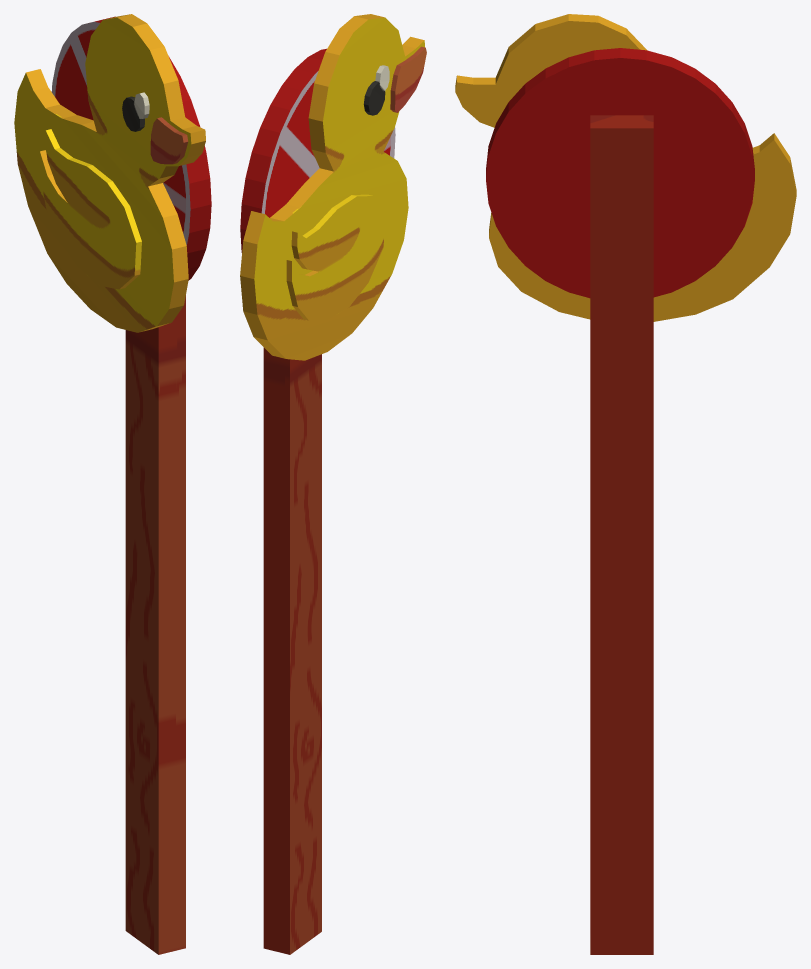
Rendered from target.fbx.
The picture shows the model from 3 angles, left to right: view 1: azimuth 30°, elevation 25°; view 2: azimuth 150°, elevation 25°; view 3: azimuth 270°, elevation 25°; orthographic projection. The views are drawn at different scales.
Parts seen in each view (by area): view 1: duck, TargetStick, target; view 2: duck, TargetStick, target; view 3: TargetStick, target, duck.
Boxes of the visible parts, bbox=[...] form: duck: bbox=[14, 14, 205, 332]; TargetStick: bbox=[125, 295, 185, 954]; target: bbox=[51, 16, 211, 280]; duck: bbox=[240, 14, 426, 360]; TargetStick: bbox=[263, 347, 321, 954]; target: bbox=[240, 48, 395, 252]; TargetStick: bbox=[590, 115, 653, 954]; target: bbox=[486, 48, 754, 298]; duck: bbox=[455, 14, 796, 321].
Size of the model in its own units: 30.02 by 380 by 129.
